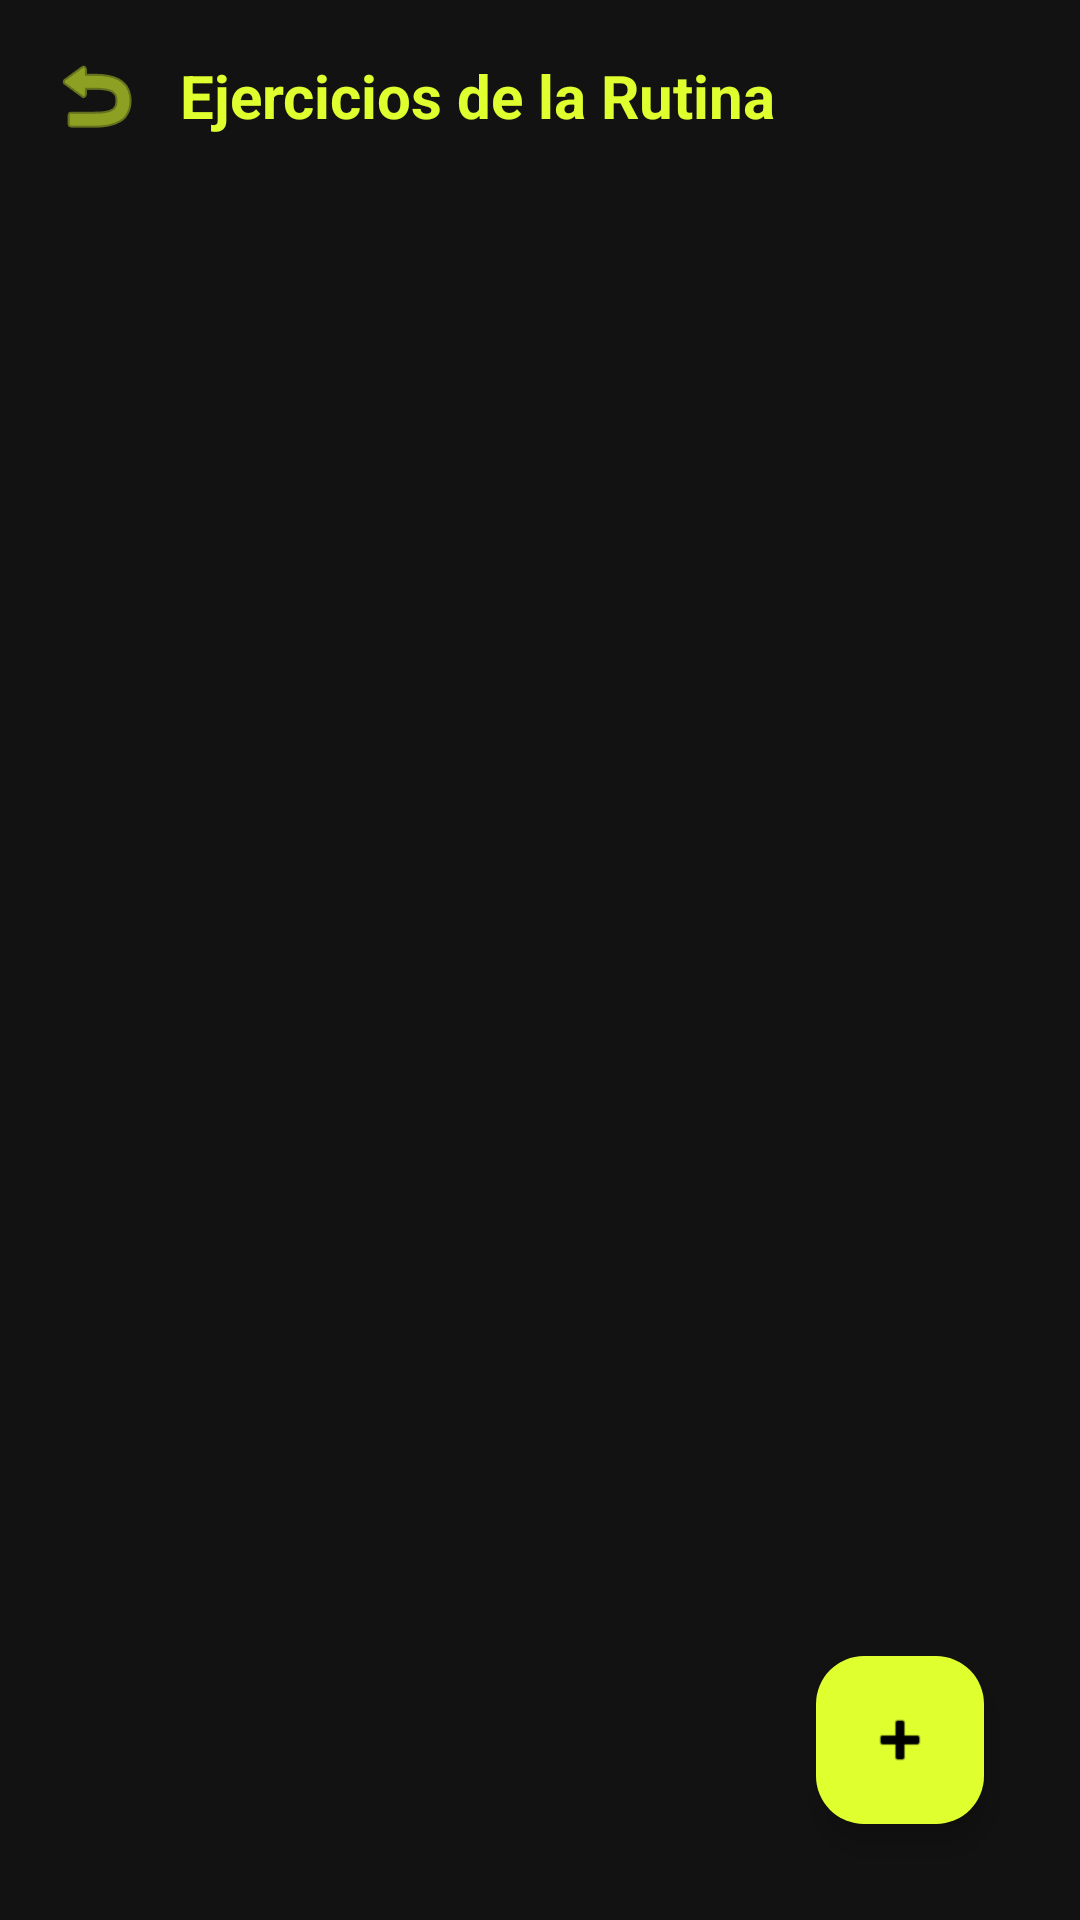

Where icons sit on this 1080 × 1920 app screen, as (x1, y1, x2, y2):
Agregar Ejercicio: (816, 1656, 984, 1824)
Volver: (63, 65, 132, 128)
